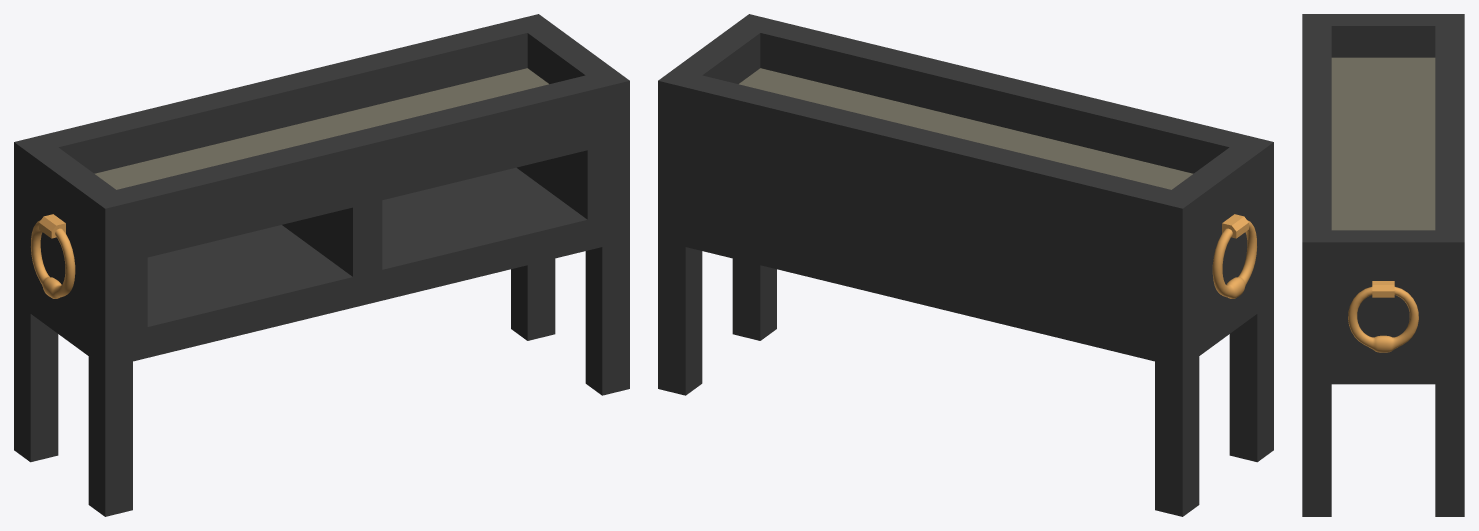
The model's file is SideTable.fbx.
3 renders of one model, left to right at view 1: azimuth 30°, elevation 25°; view 2: azimuth 150°, elevation 25°; view 3: azimuth 270°, elevation 25°, orthographic. The views are drawn at different scales.
Visible parts, largest first — view 1: Consola; view 2: Consola; view 3: Consola.
Boxes of the visible parts, x1,y1,x2,y2 form: Consola: [14, 14, 629, 516]; Consola: [658, 14, 1273, 516]; Consola: [1302, 14, 1464, 516].
Bounding box in the file's own units: 176 × 93.86 × 50.32.
